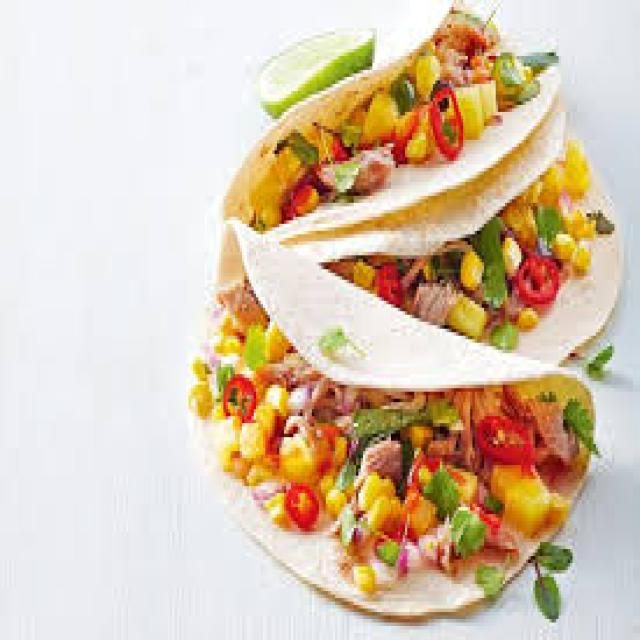food_waste: (189, 0, 619, 612)
